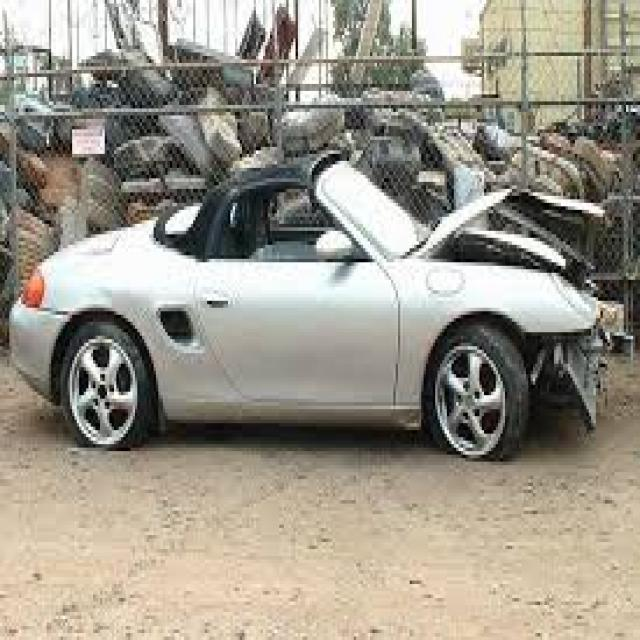moderate: (447, 238, 640, 462)
